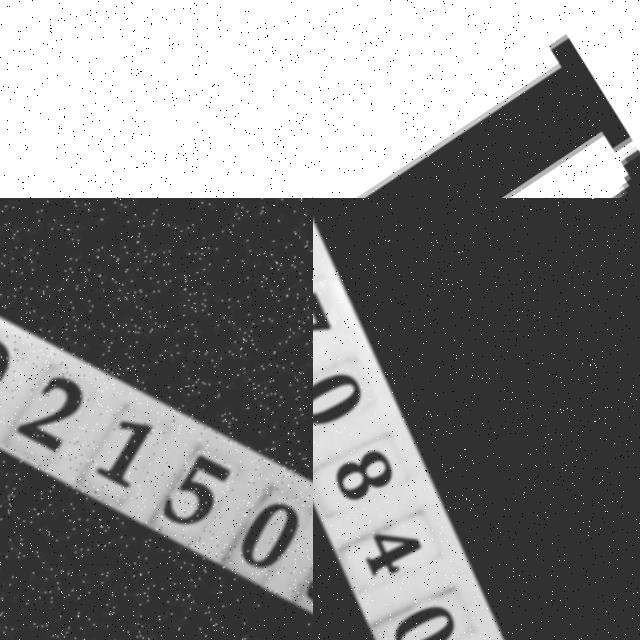0: (205, 464, 313, 597), (313, 337, 396, 446), (379, 574, 489, 640)
1: (63, 379, 205, 509)
2: (0, 332, 140, 479)
3: (275, 501, 313, 635)
4: (342, 492, 460, 597)
5: (128, 417, 280, 556)
7: (313, 262, 359, 367)
8: (317, 419, 426, 516)
9: (0, 294, 61, 436)
K: (0, 0, 313, 198)
U: (313, 14, 640, 198)
